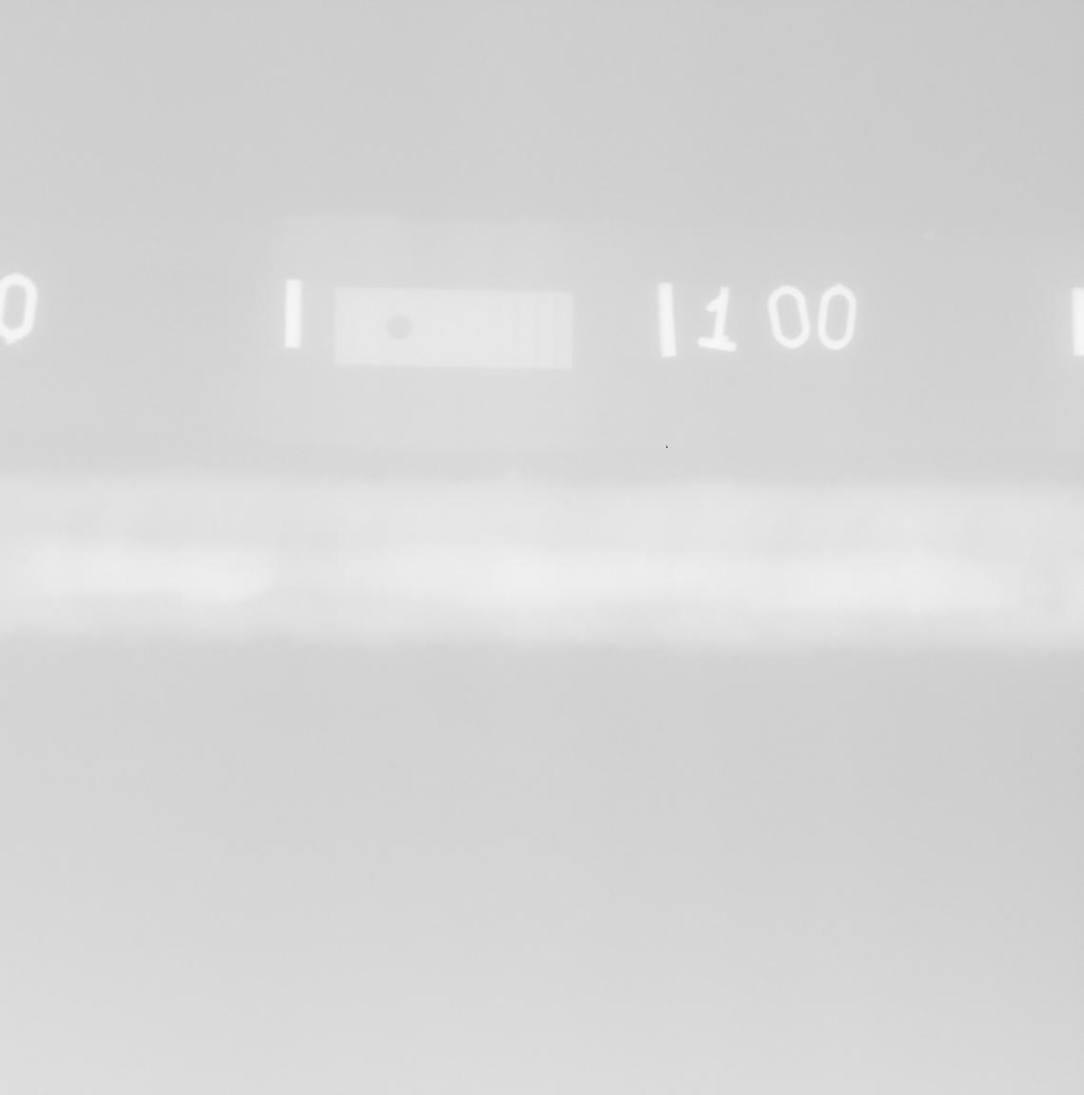Reference Standard 1: (334, 287, 573, 370)
